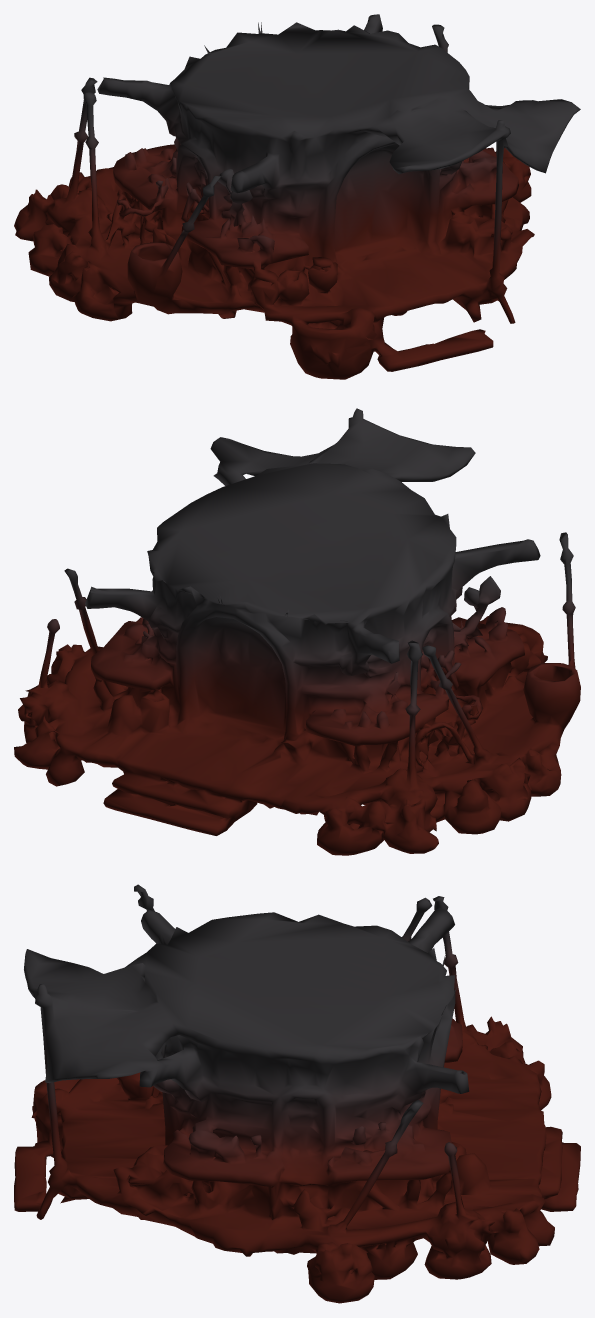
The model's file is trade-pavilion.glb.
3 views of the same model, one above another, from view 1: azimuth 30°, elevation 25°; view 2: azimuth 150°, elevation 25°; view 3: azimuth 270°, elevation 25° (orthographic). The views are drawn at different scales.
Visible parts, largest first — view 1: trade-pavilion; view 2: trade-pavilion; view 3: trade-pavilion.
Boxes of the visible parts, box(x1,y1,x2,y2) form: trade-pavilion: box(14, 14, 580, 379); trade-pavilion: box(14, 408, 580, 855); trade-pavilion: box(14, 884, 580, 1303).
Size of the model in its own units: 0.0386 by 0.018 by 0.0366.
